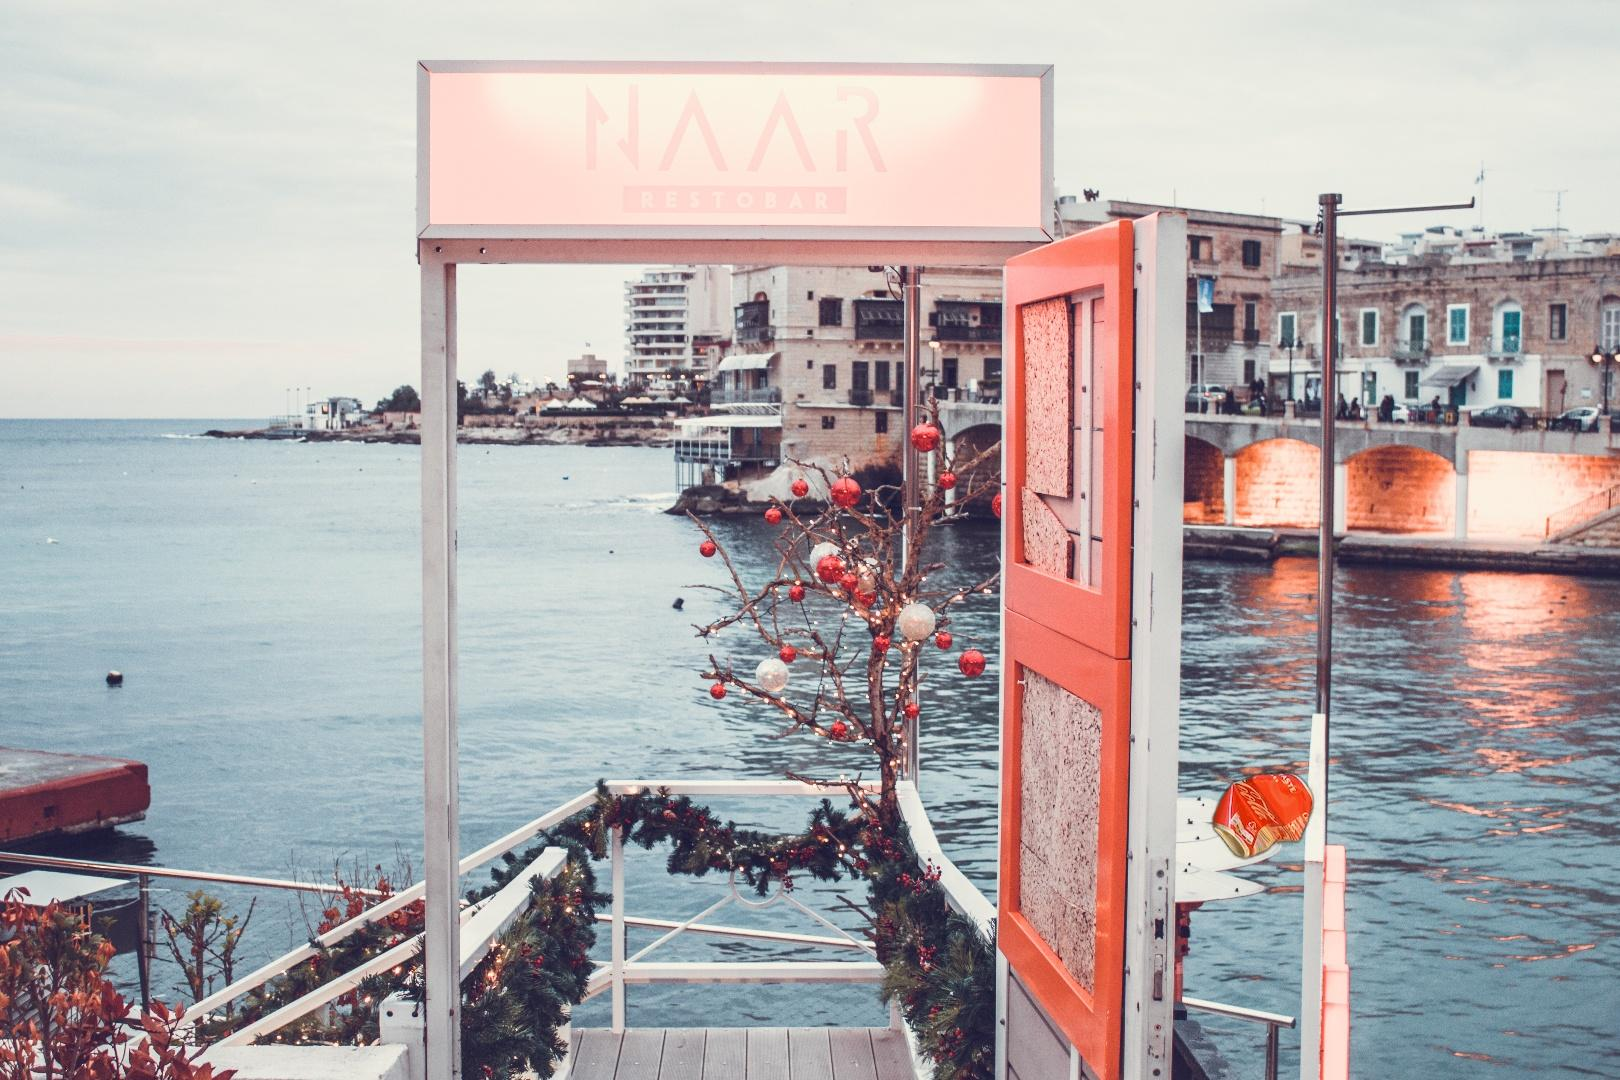metal-cans: (1208, 765, 1319, 864)
